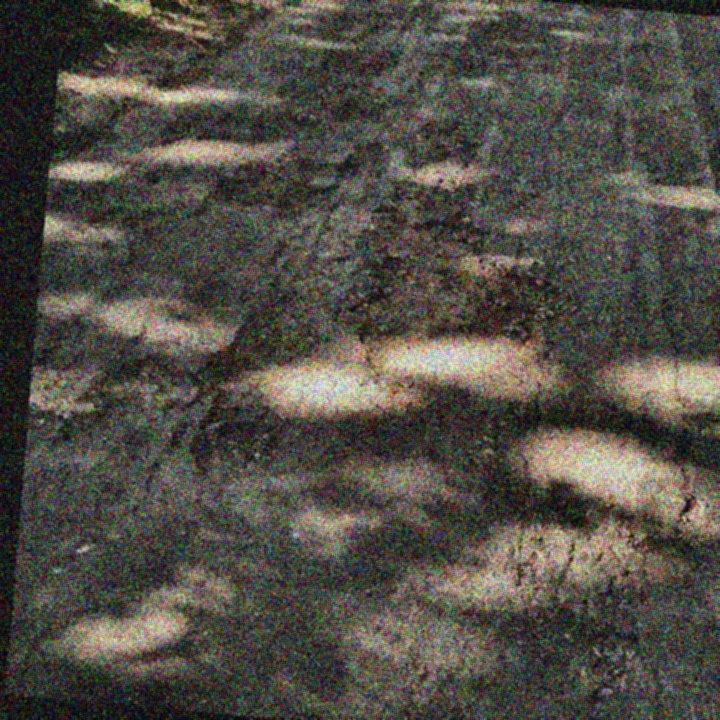pothole: (348, 196, 590, 414)
